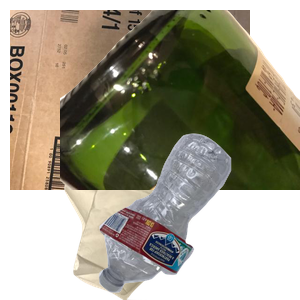cardboard: (10, 10, 250, 190)
glass: (60, 10, 300, 190)
plastic: (96, 131, 300, 300)
trash: (62, 120, 251, 300)
